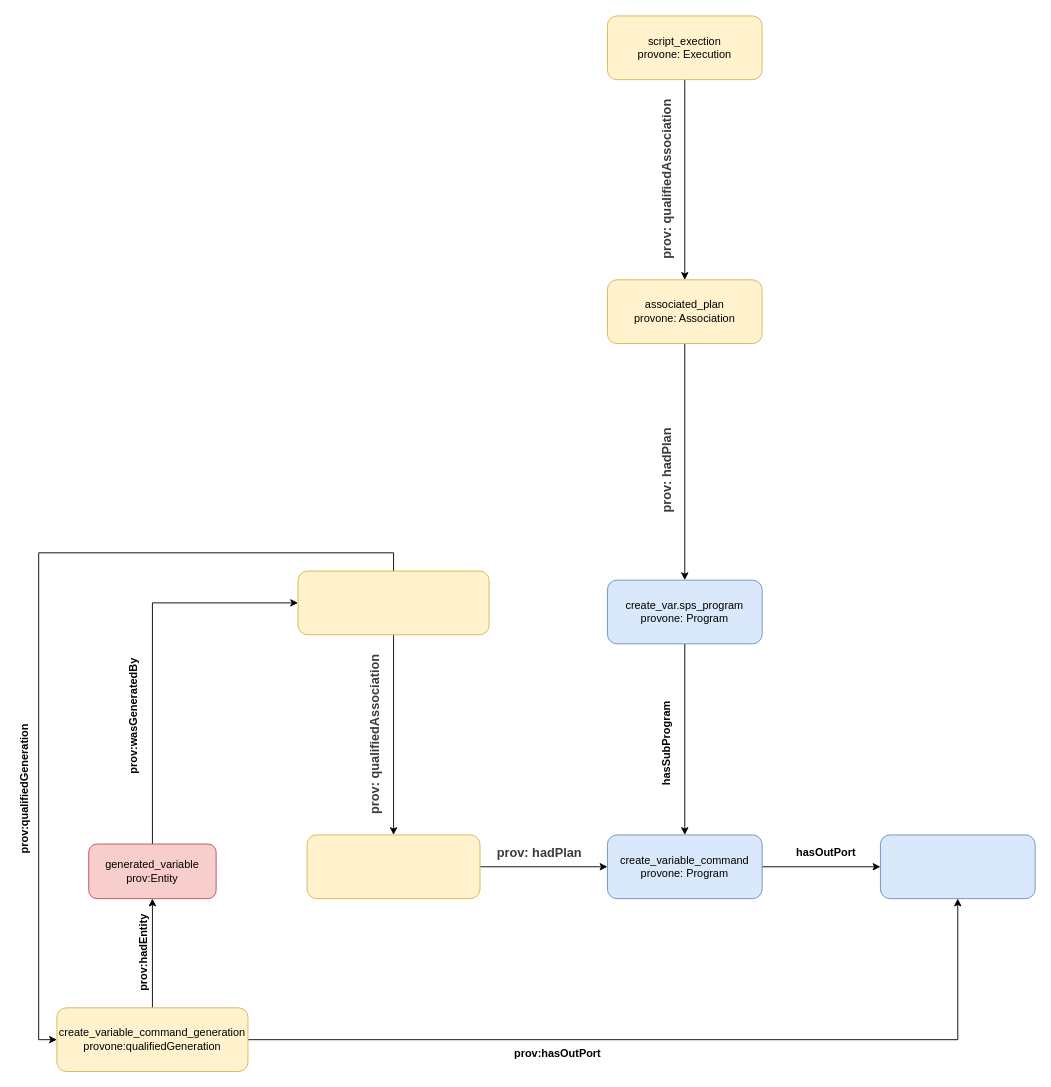
This 1051x1087 diagram has some shape labels left out. The shapes that lost their labels are listed below. From the top down, each one's centre as x and y in pixels, then its label:
the point at 393,602: create_variable_command _exection provone: Execution
the point at 393,866: create_variable_ associated_plan provone: Association
the point at 957,866: create_variable_port provone: Port
